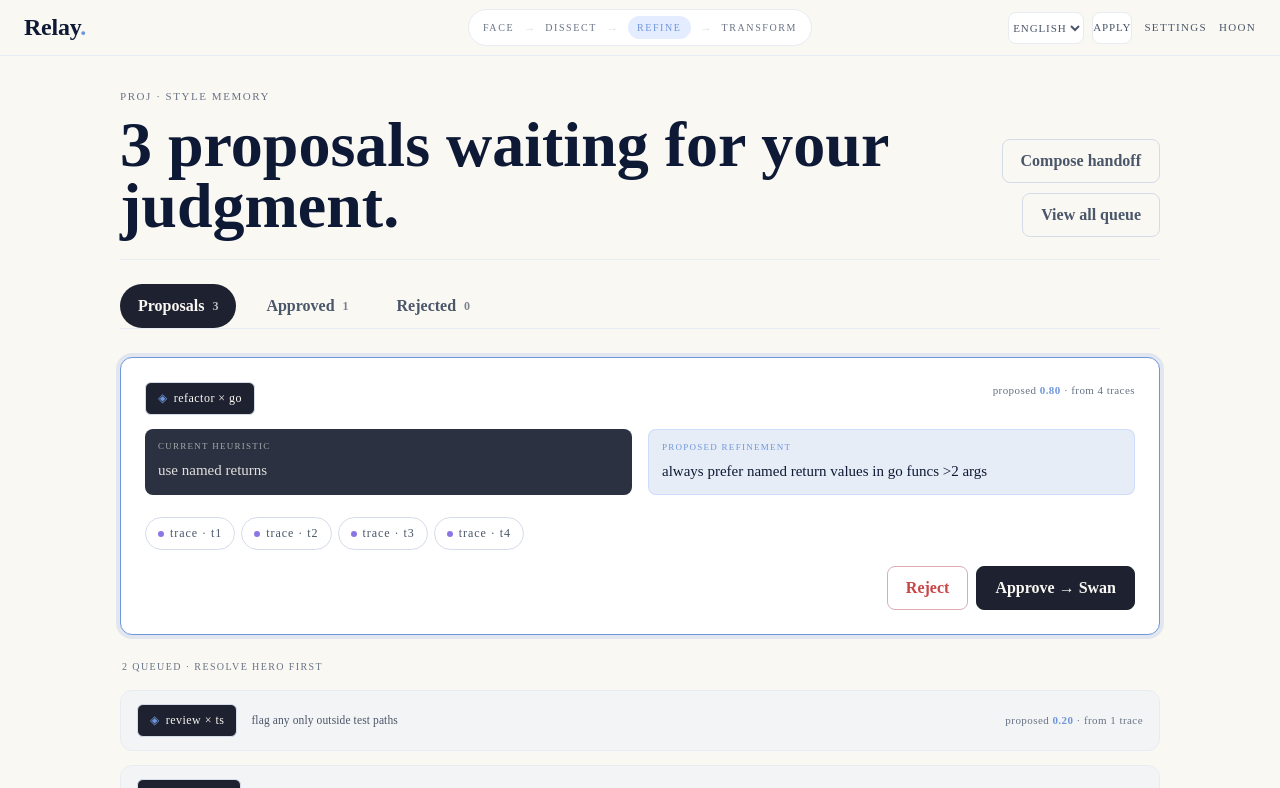
Test: reject overlay › refreshes the rejected list after a successful rejection
Click the button "Reject".
click(928, 588)  # box left=887, top=566, right=968, bottom=610
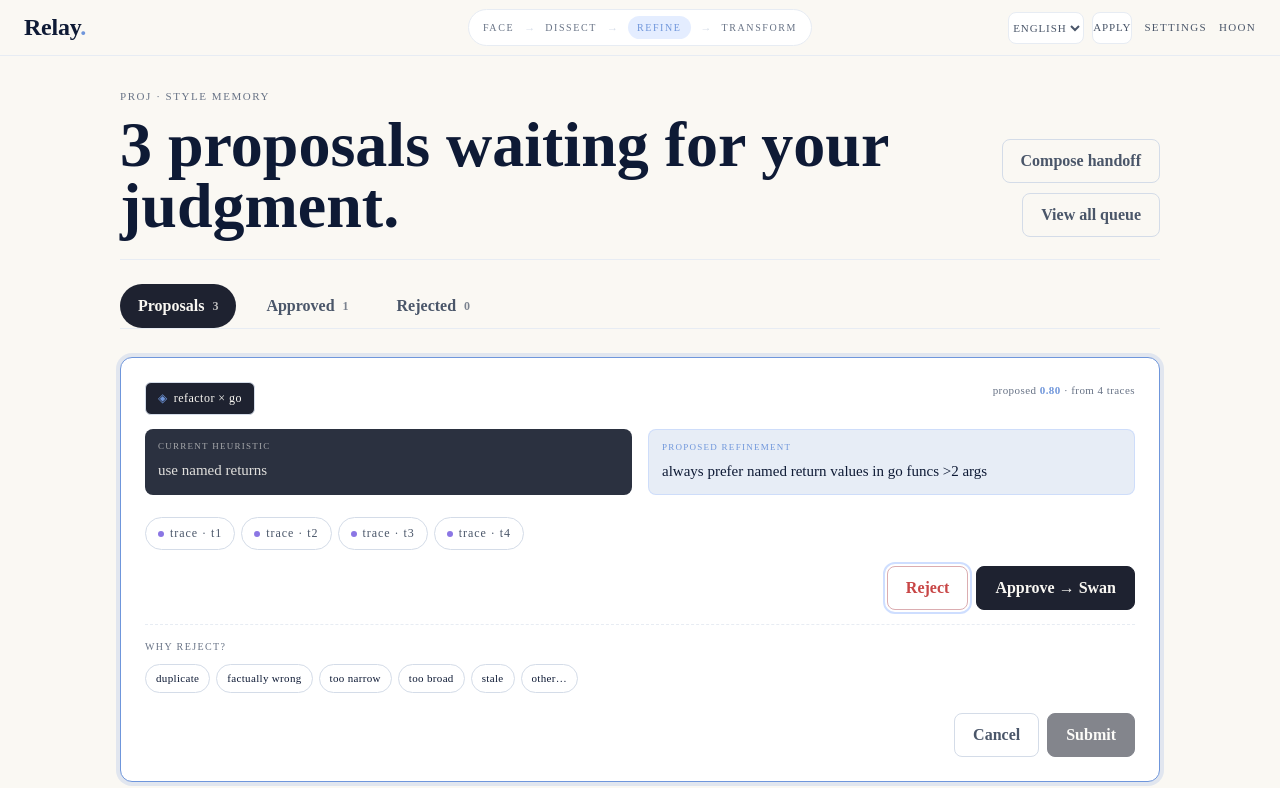
Click the button with test id "reject-chip-stale".
click(493, 679)  # box left=471, top=664, right=514, bottom=693
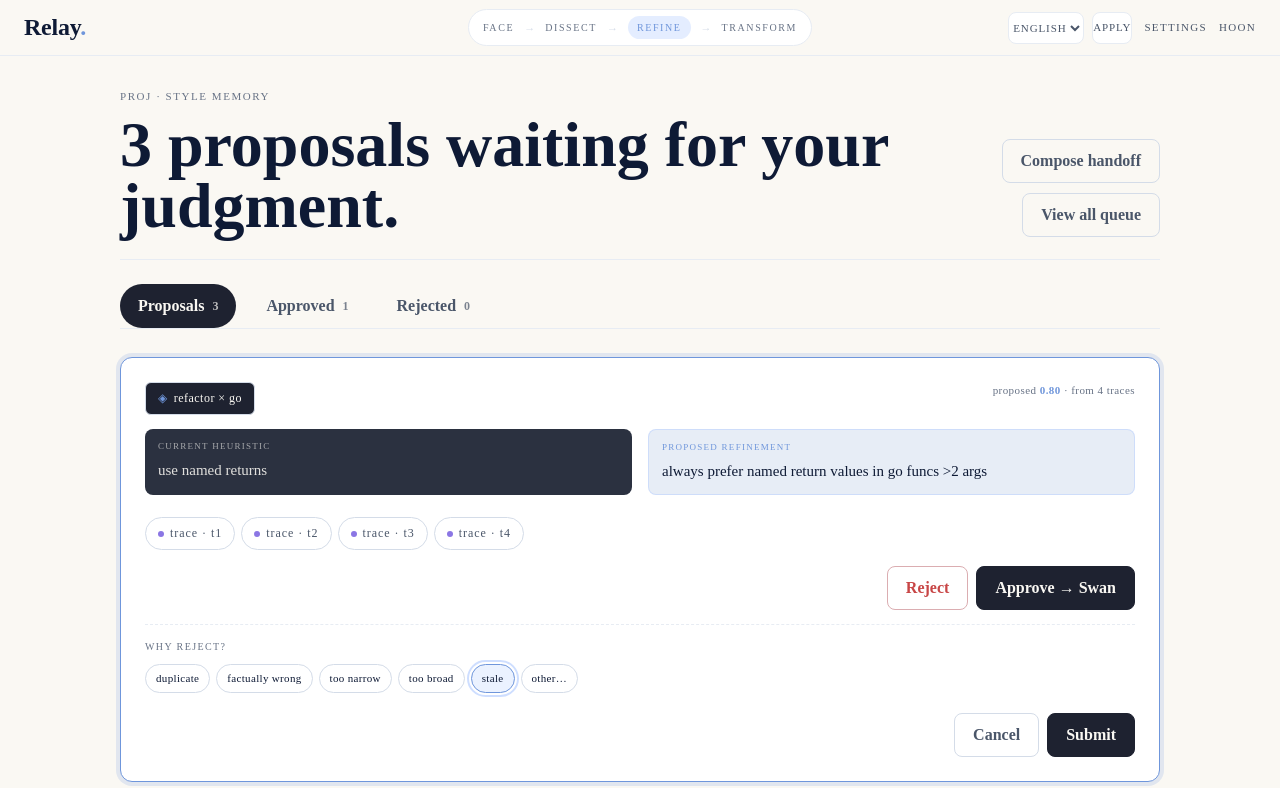
Click the button with test id "reject-submit".
click(1091, 735)  # box left=1047, top=713, right=1135, bottom=757
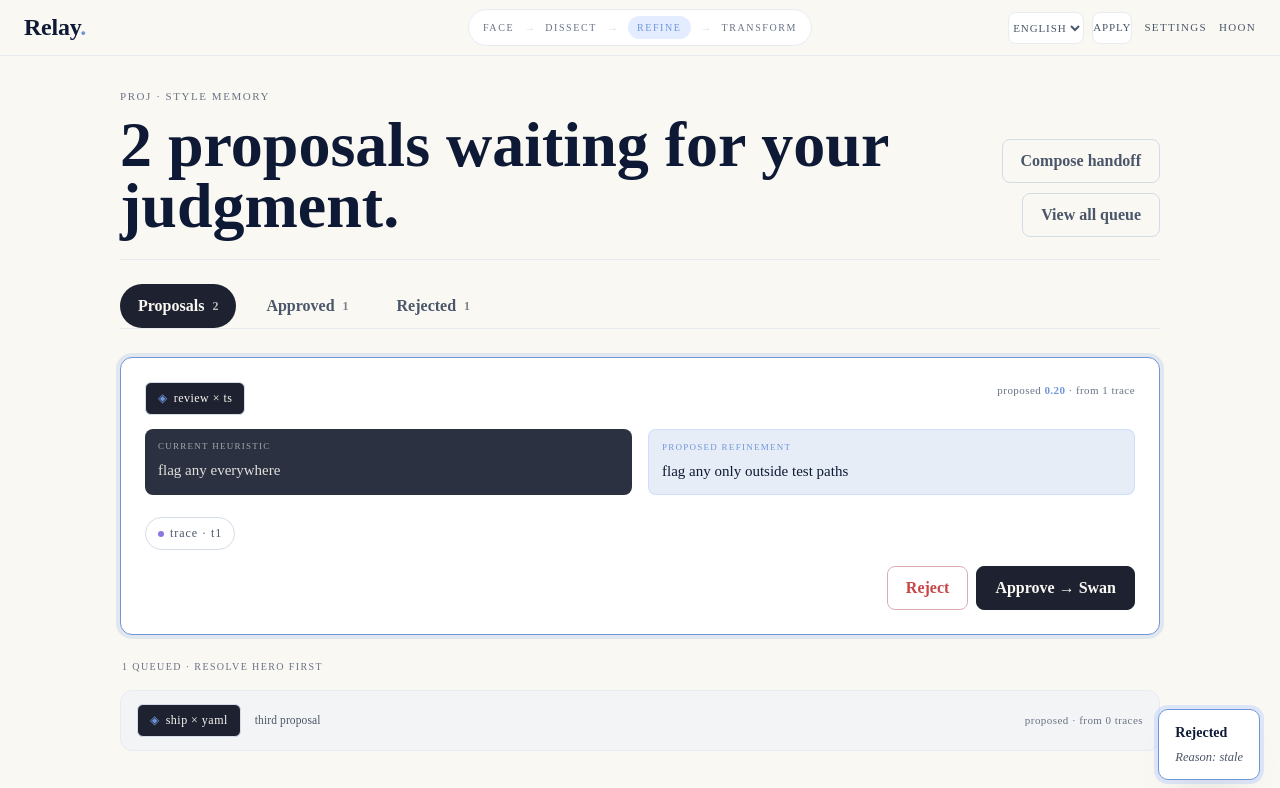
Click the tab named "rejected1".
click(433, 306)  # box left=379, top=284, right=488, bottom=328
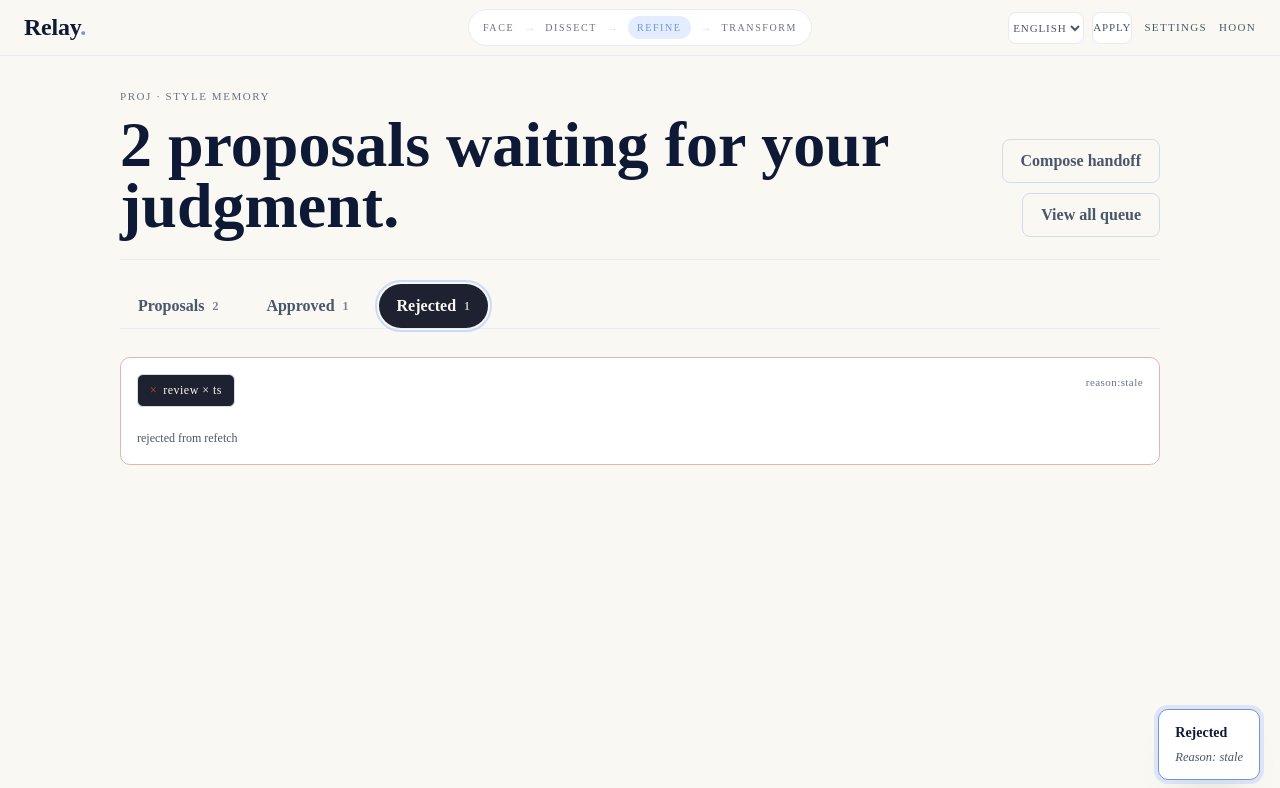
Now the text "rejected from refetch" is shown, box left=137, top=431, right=238, bottom=445
Now the text "reason:stale" is shown, box left=1086, top=374, right=1143, bottom=391
